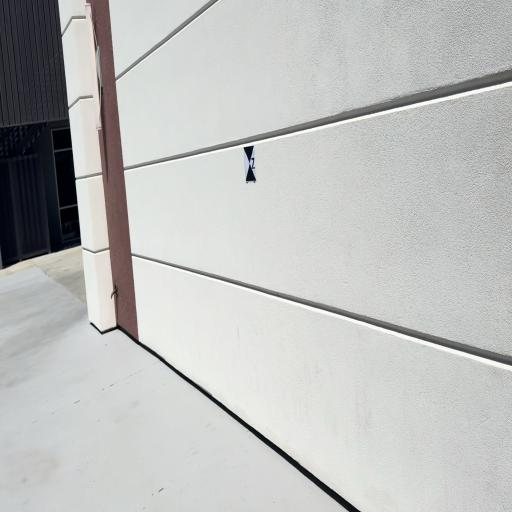target7: (243, 146, 257, 183)
